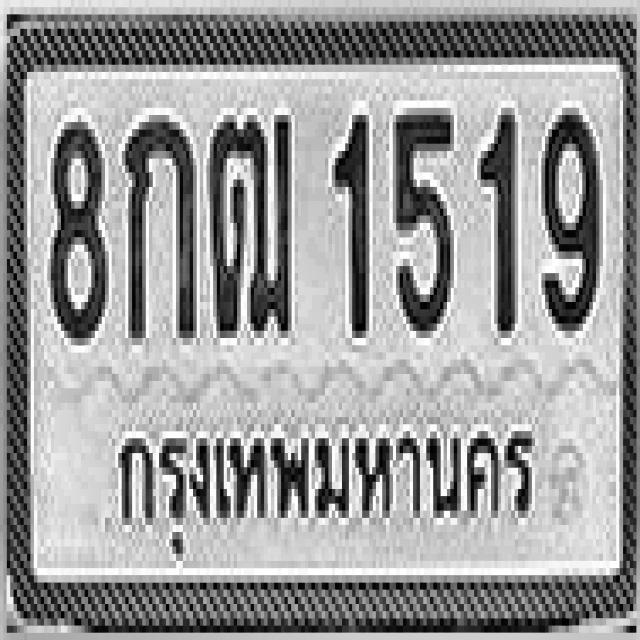license-plate: (8, 24, 637, 622)
